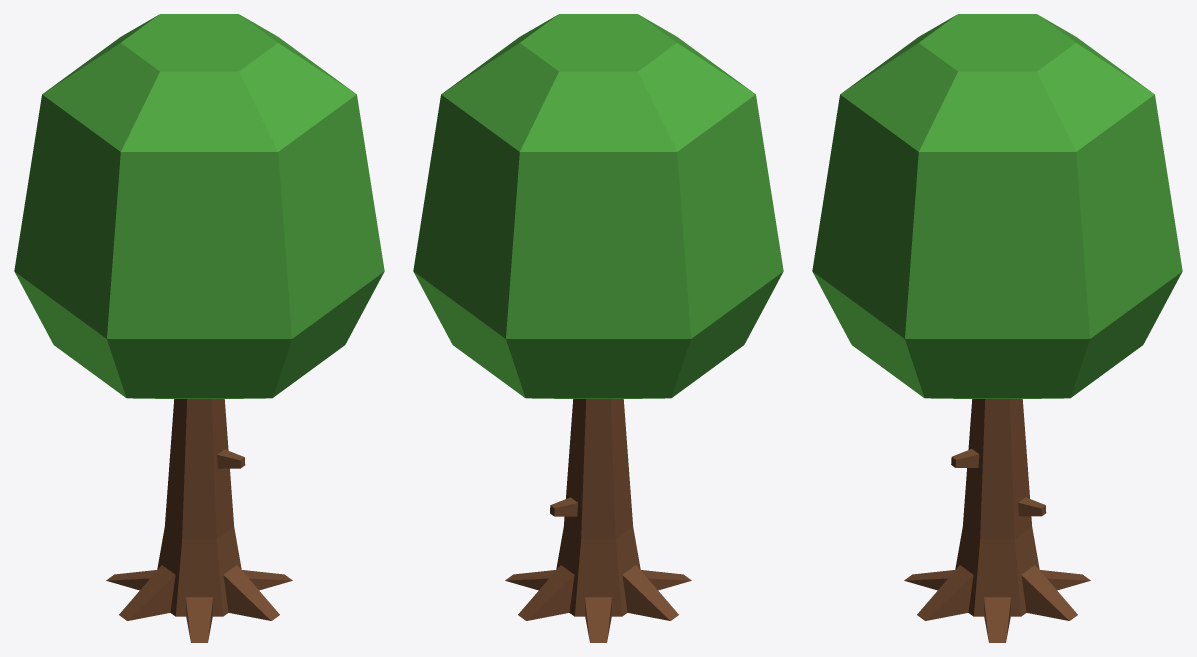
The model's file is halo_tree_oak.obj.
The picture shows the model from 3 angles, left to right: view 1: azimuth 30°, elevation 25°; view 2: azimuth 150°, elevation 25°; view 3: azimuth 270°, elevation 25°; orthographic projection.
Visible parts, largest first — view 1: tree_oak; view 2: tree_oak; view 3: tree_oak.
Boxes of the visible parts, x1=… form: tree_oak: x1=14, y1=14, x2=384, y2=642; tree_oak: x1=413, y1=14, x2=783, y2=642; tree_oak: x1=812, y1=14, x2=1182, y2=642.
Size of the model in its own units: 0.6406 by 1.23 by 0.7396.
